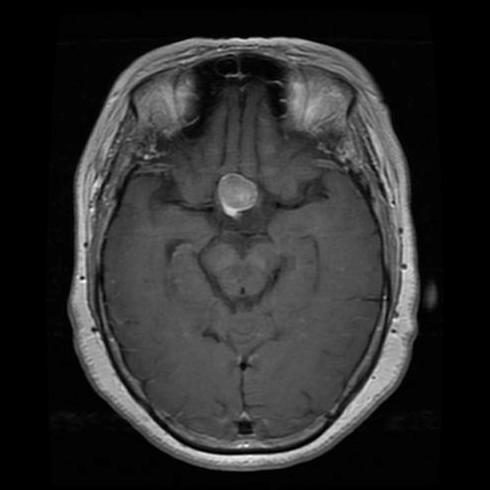Tumour-Pituitary: (218, 171, 264, 217)
